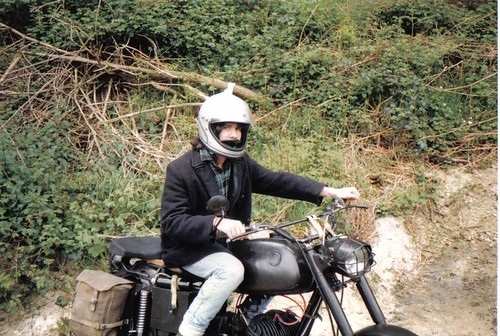helmet: (190, 88, 261, 161)
